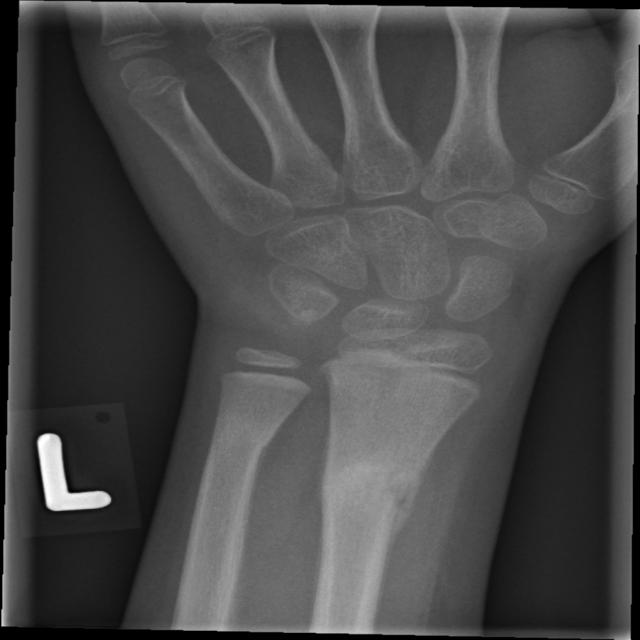radius fracture: (315, 415, 458, 613)
ulna fracture: (194, 379, 299, 557)
